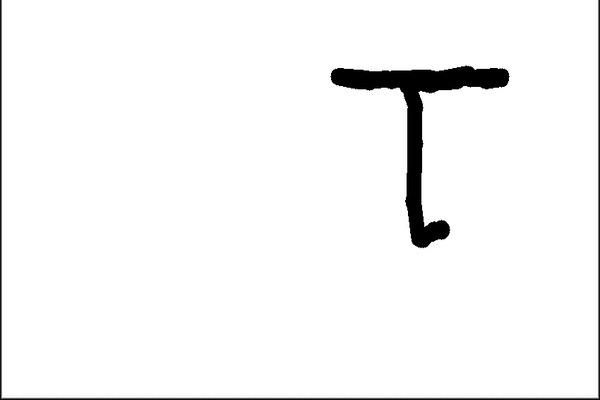T: (323, 53, 521, 244)
